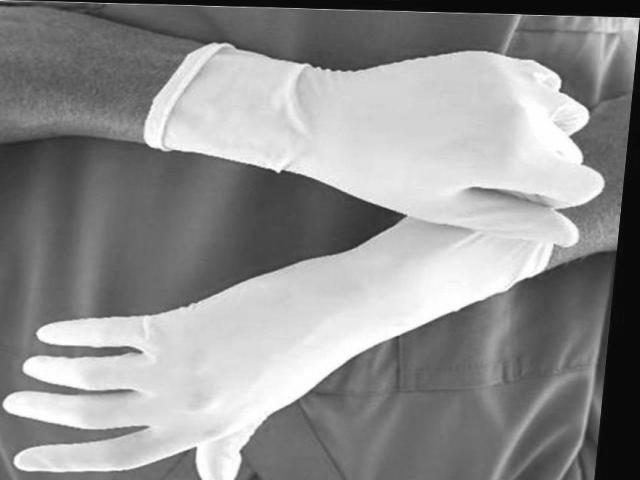gloved: (6, 279, 333, 479), (337, 49, 597, 249)
